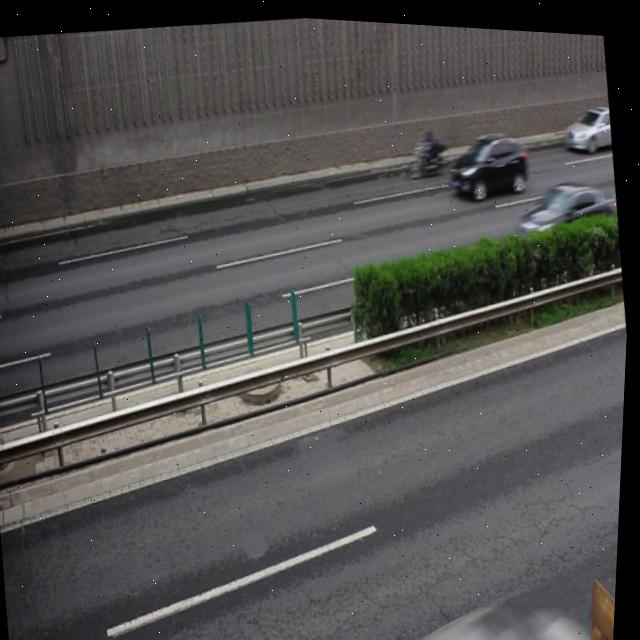car: (417, 580, 600, 640), (513, 165, 622, 254), (443, 120, 534, 201), (558, 95, 615, 149)
